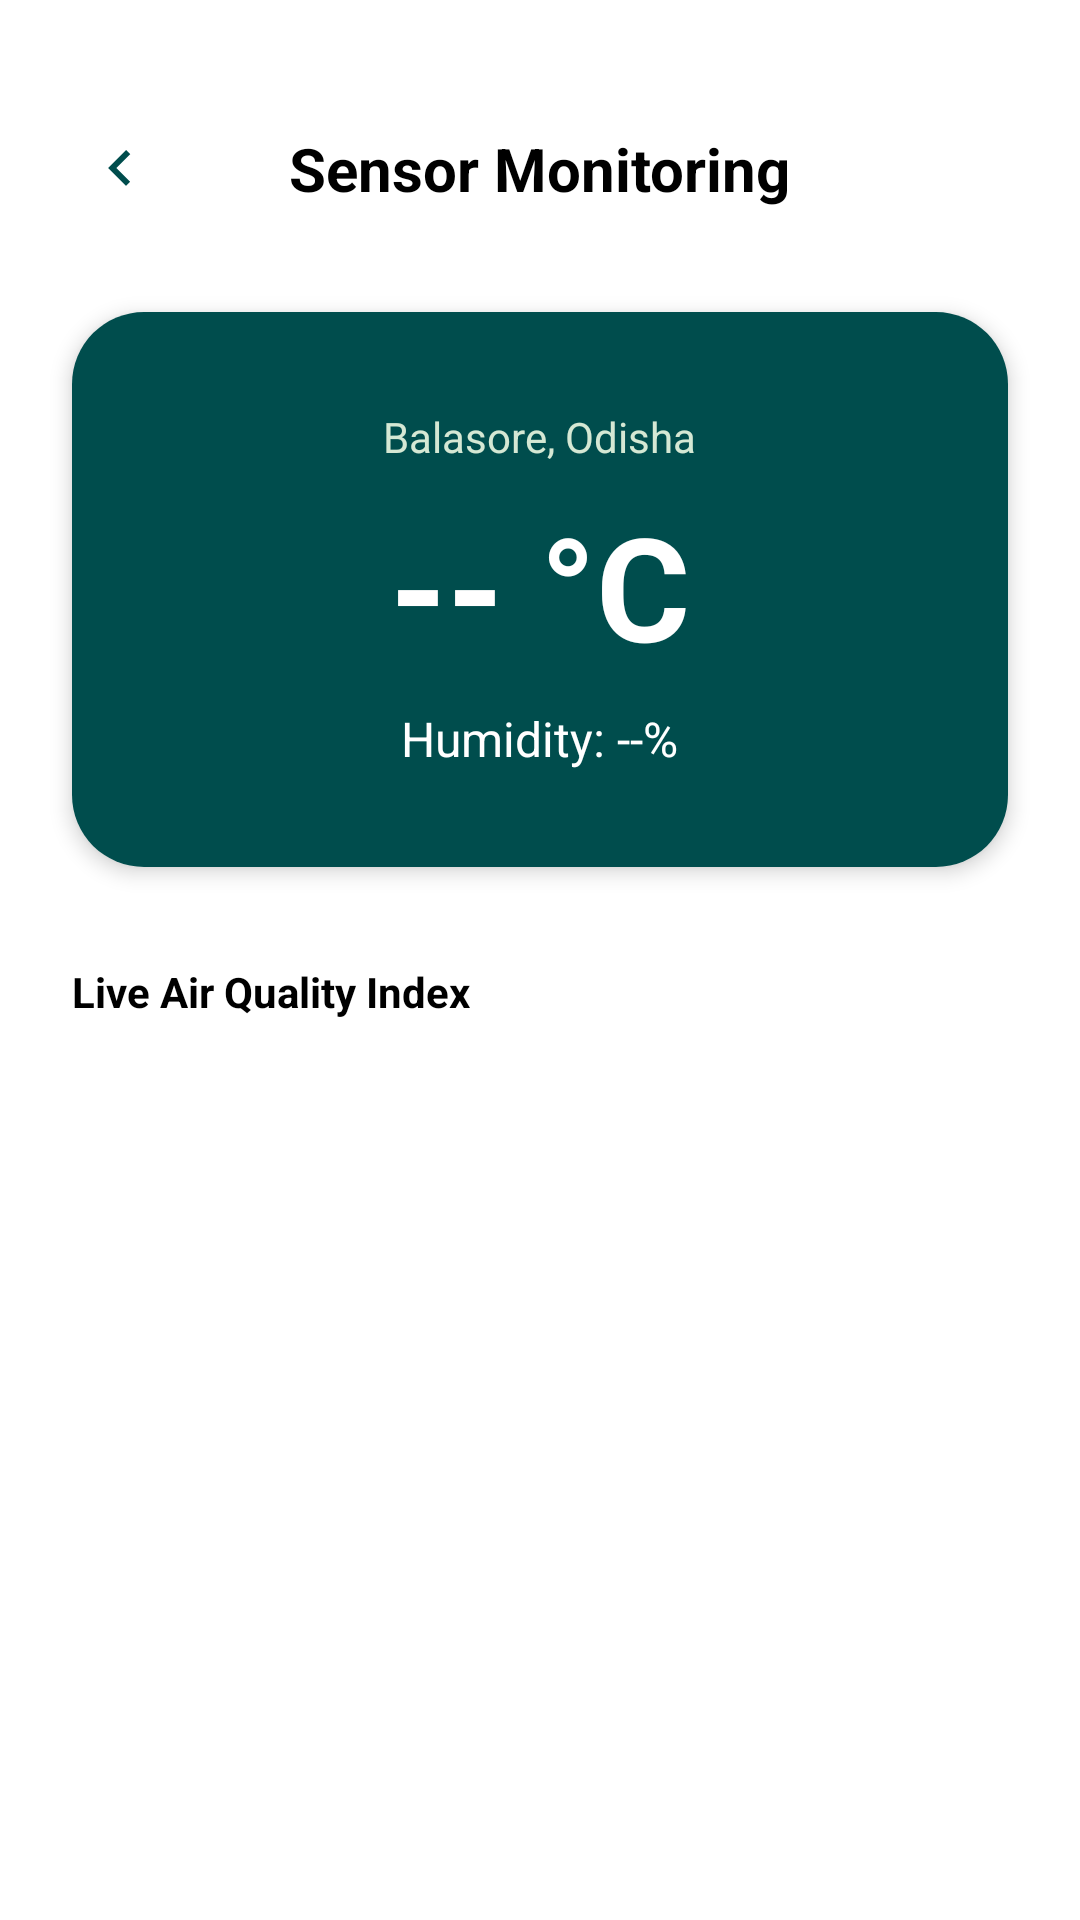

Where to tap for icons on this 1080 × 1920 app screen, as point (x, y):
Back: point (119, 168)
